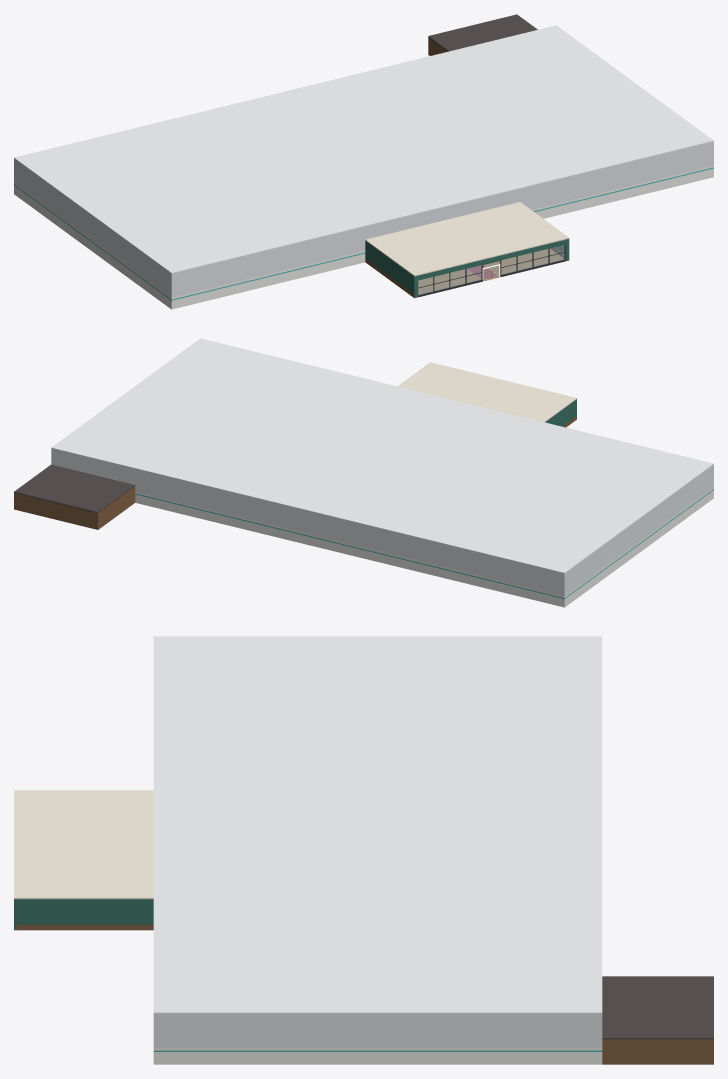
The model's file is WChewsHall_01.glb.
The picture shows the model from 3 angles, top to bottom: view 1: azimuth 30°, elevation 25°; view 2: azimuth 150°, elevation 25°; view 3: azimuth 270°, elevation 25°; orthographic projection. The views are drawn at different scales.
Parts seen in each view (by area): view 1: WChewsHall_Ceiling, WChewsHall_WallUpper, WChewsHall_FrontCeiling, WChewsHall_WallTile, WChewsHall_FrontGlass, WChewsHall_FrontWalls, WChewsHall_BackCeiling, WChewsHall_FrontFloor, WChewsHall_WallAccent, WChewsHall_FrontMullions; view 2: WChewsHall_Ceiling, WChewsHall_WallUpper, WChewsHall_WallTile, WChewsHall_FrontCeiling, WChewsHall_BackCeiling, WChewsHall_BackWalls, WChewsHall_WallAccent; view 3: WChewsHall_Ceiling, WChewsHall_FrontCeiling, WChewsHall_WallUpper, WChewsHall_WallTile, WChewsHall_BackCeiling, WChewsHall_FrontWalls, WChewsHall_BackWalls, WChewsHall_FrontWainscot, WChewsHall_WallAccent.
Boxes of the visible parts, <box> form: WChewsHall_Ceiling: <box>14,25,713,273</box>; WChewsHall_WallUpper: <box>14,141,713,297</box>; WChewsHall_FrontCeiling: <box>365,202,569,276</box>; WChewsHall_WallTile: <box>14,165,713,309</box>; WChewsHall_FrontGlass: <box>418,245,564,294</box>; WChewsHall_FrontWalls: <box>365,239,569,298</box>; WChewsHall_BackCeiling: <box>428,14,537,51</box>; WChewsHall_FrontFloor: <box>418,249,563,294</box>; WChewsHall_WallAccent: <box>14,167,713,300</box>; WChewsHall_FrontMullions: <box>418,245,565,297</box>; WChewsHall_Ceiling: <box>51,338,713,573</box>; WChewsHall_WallUpper: <box>51,448,713,596</box>; WChewsHall_WallTile: <box>135,487,713,607</box>; WChewsHall_FrontCeiling: <box>397,362,576,422</box>; WChewsHall_BackCeiling: <box>14,464,135,512</box>; WChewsHall_BackWalls: <box>14,486,135,529</box>; WChewsHall_WallAccent: <box>135,489,713,598</box>; WChewsHall_Ceiling: <box>153,636,602,1013</box>; WChewsHall_FrontCeiling: <box>14,790,153,899</box>; WChewsHall_WallUpper: <box>153,1014,602,1047</box>; WChewsHall_WallTile: <box>153,1048,602,1064</box>; WChewsHall_BackCeiling: <box>602,976,713,1039</box>; WChewsHall_FrontWalls: <box>14,899,153,930</box>; WChewsHall_BackWalls: <box>602,1039,713,1064</box>; WChewsHall_FrontWainscot: <box>17,924,153,930</box>; WChewsHall_WallAccent: <box>153,1050,602,1051</box>.
Bounding box in the file's own units: 574 × 38 × 451.
